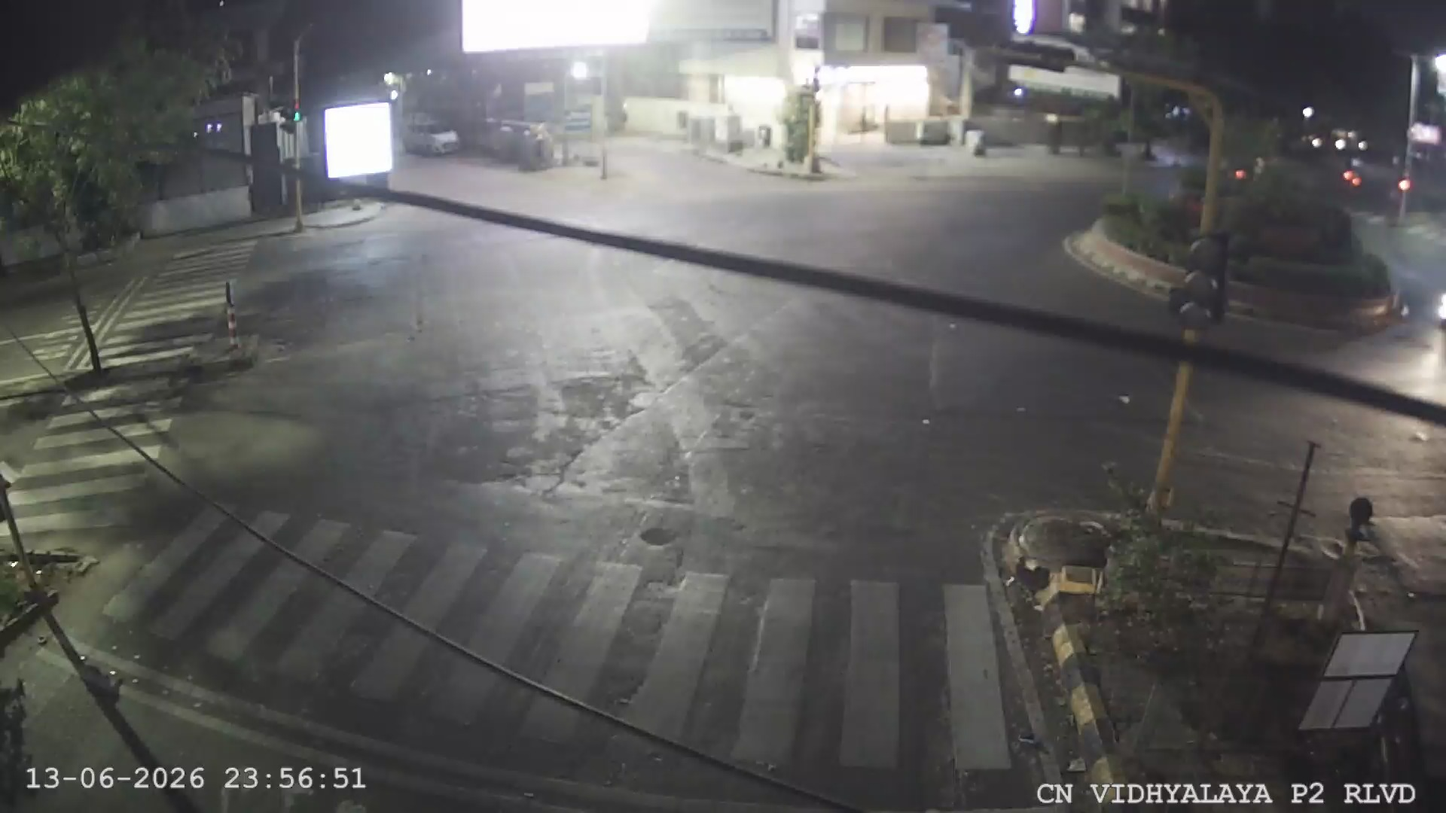two_wheeler: (1430, 272, 1446, 336)
